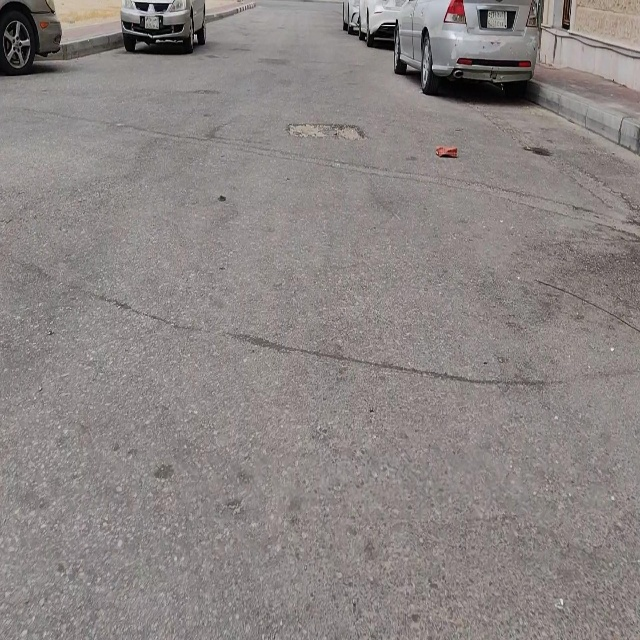pothole: (288, 121, 368, 140)
